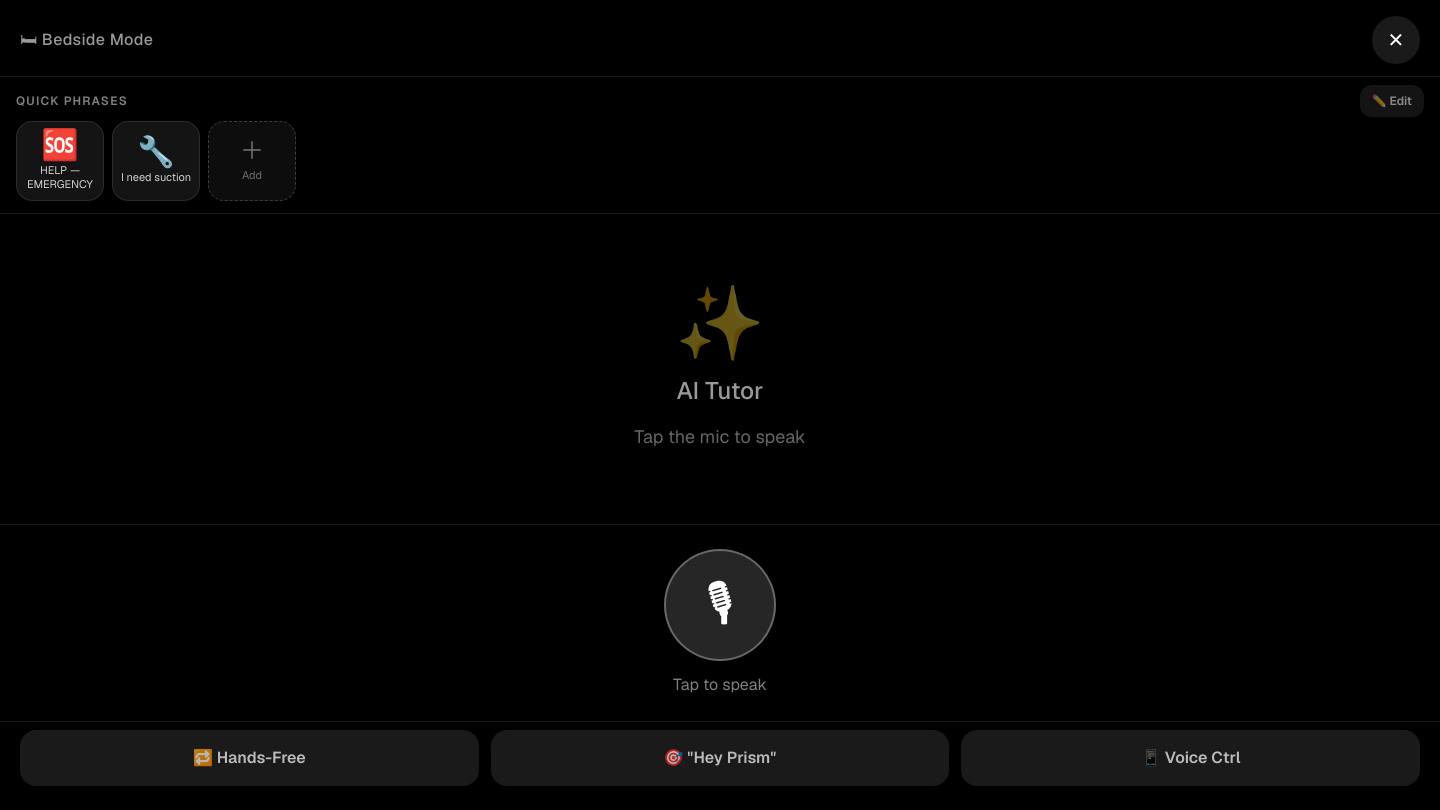
Test: BedsideOverlay — Quick Cards section › Edit button toggles edit mode
What coordinates should you click on to do the following:
click the button with aria-label "edit quick phrase cards"
I would click on:
 (1392, 101)
Its box is [1360,85,1424,117].
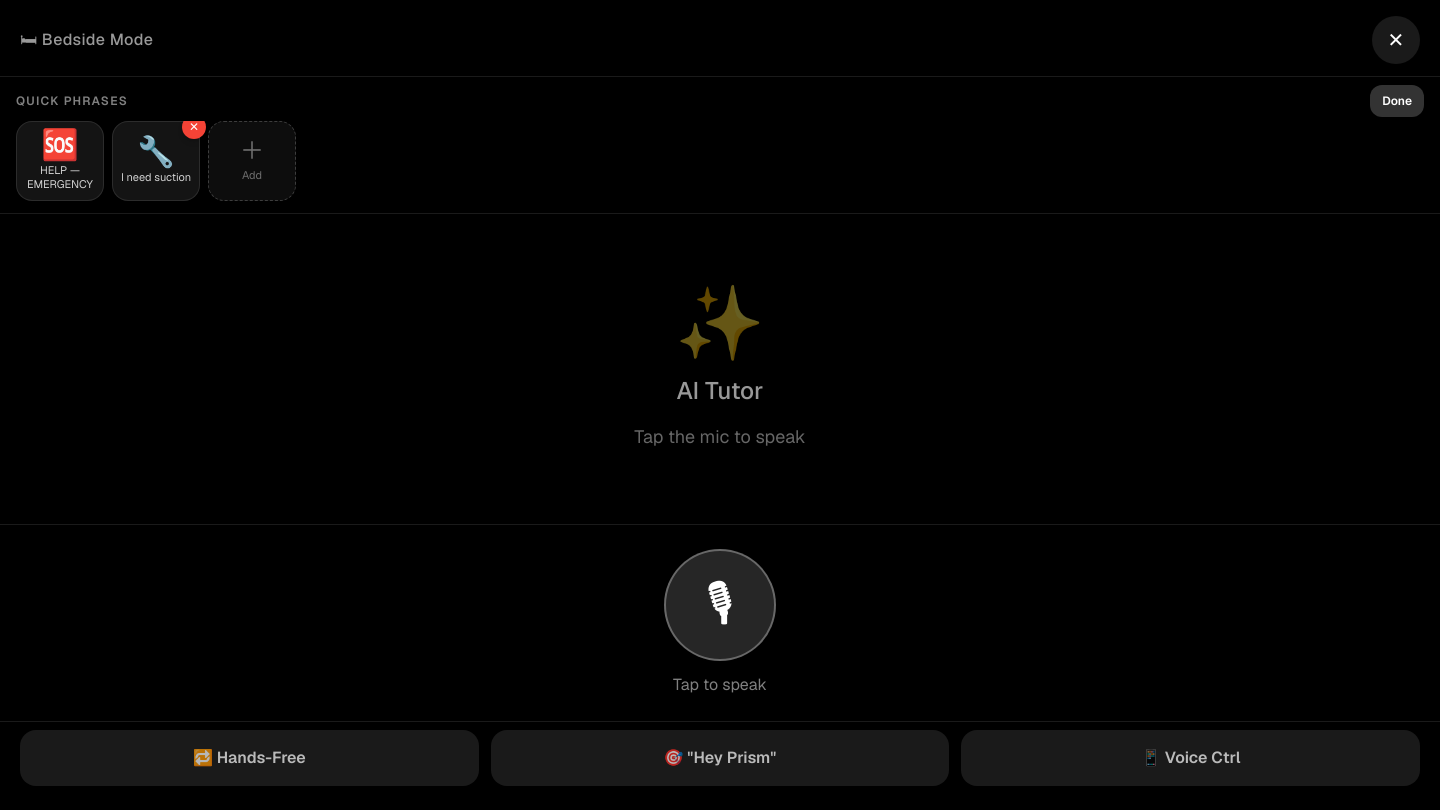
Result: the button with aria-label "done editing cards" is shown at [1370,85,1424,117]
